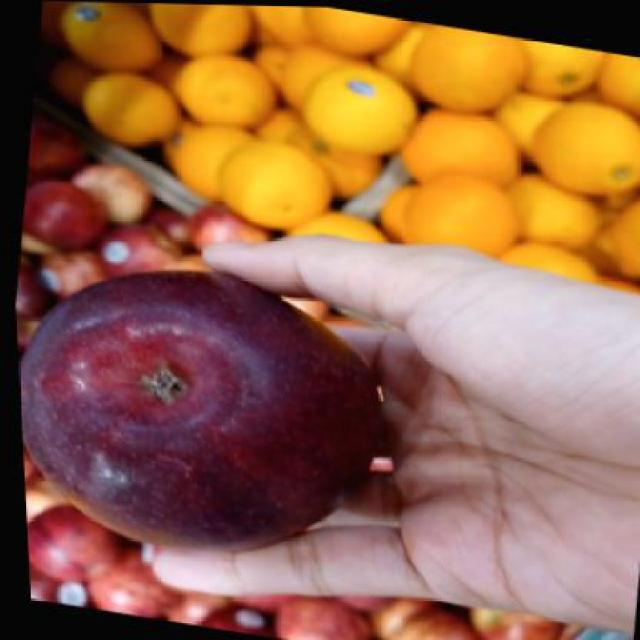Fresh Apple: (23, 266, 328, 528)
